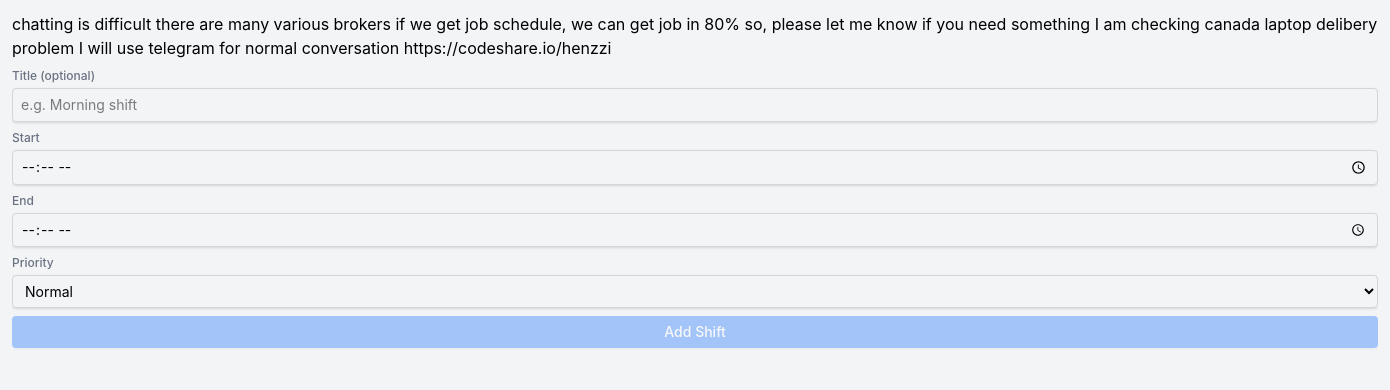
AddShiftForm › shows server error message on failure
Type "09:00" into the time field labelled "Start". click: [695, 167]
box: x1=12 y1=150 x2=1378 y2=185
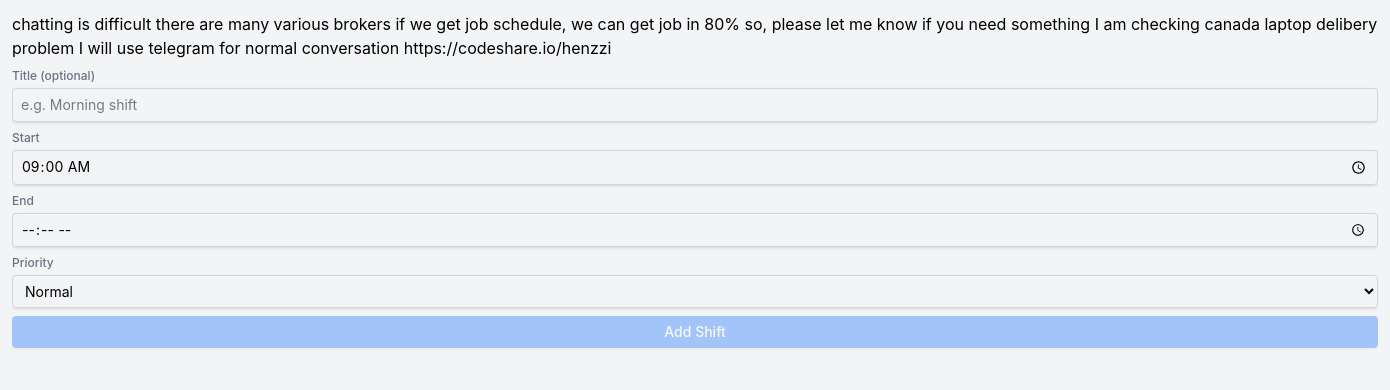
Type "10:00" into the time field labelled "End". click: [695, 230]
box: x1=12 y1=213 x2=1378 y2=247
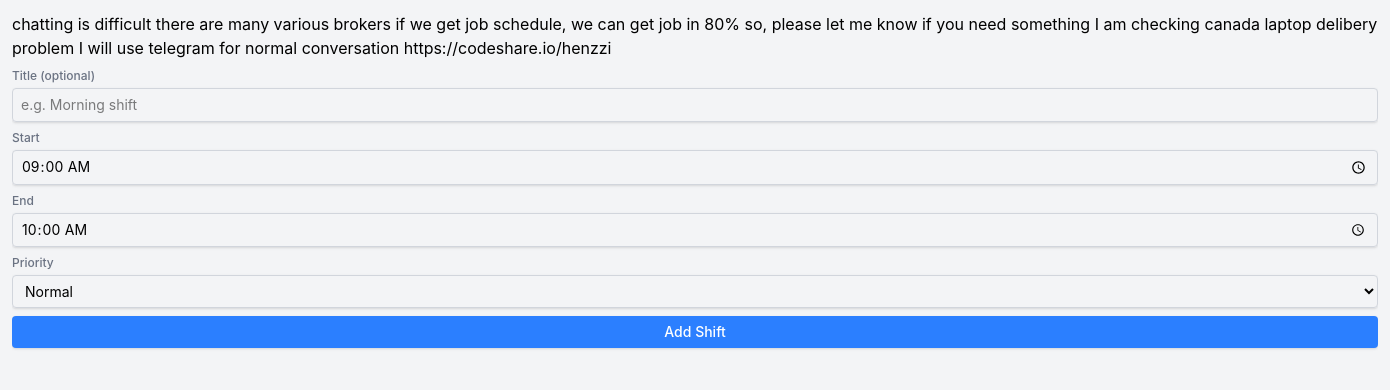
Submit the form
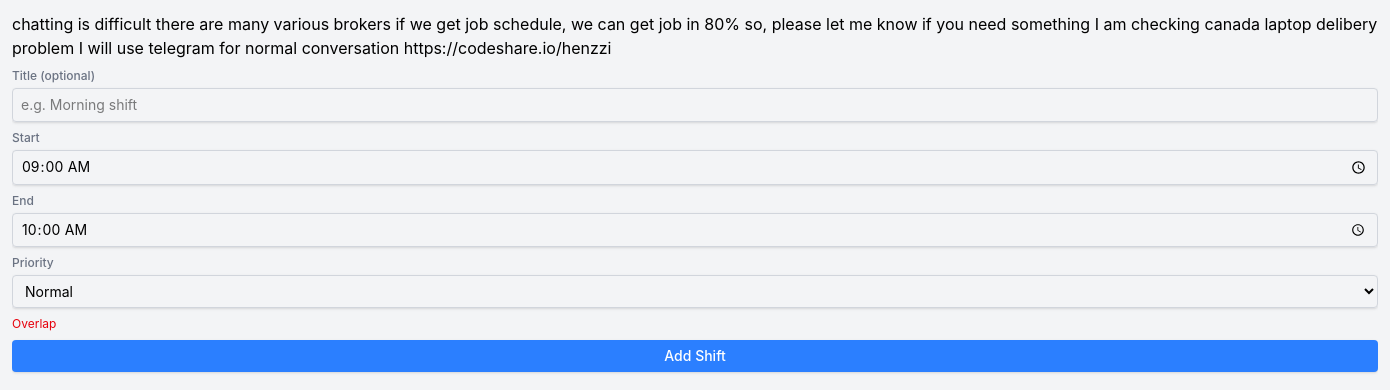
Check: the form shows "Overlap", box x1=12 y1=316 x2=56 y2=331
